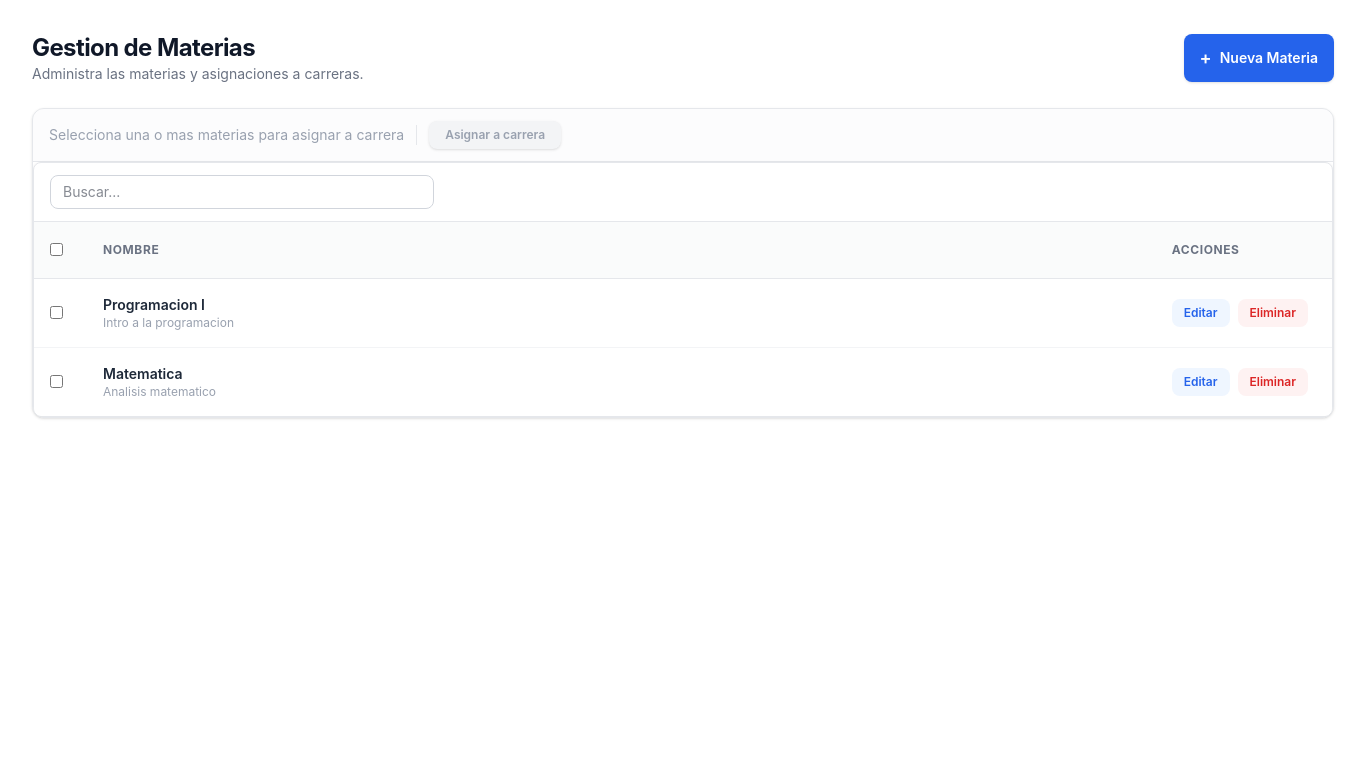
Test case: AdminMateriasPage › muestra mensaje de exito verde al asignar correctamente
This screenshot has width=1366, height=768.
Click the checkbox next to "Programacion I".
click(56, 312)  # box x1=50 y1=306 x2=63 y2=319
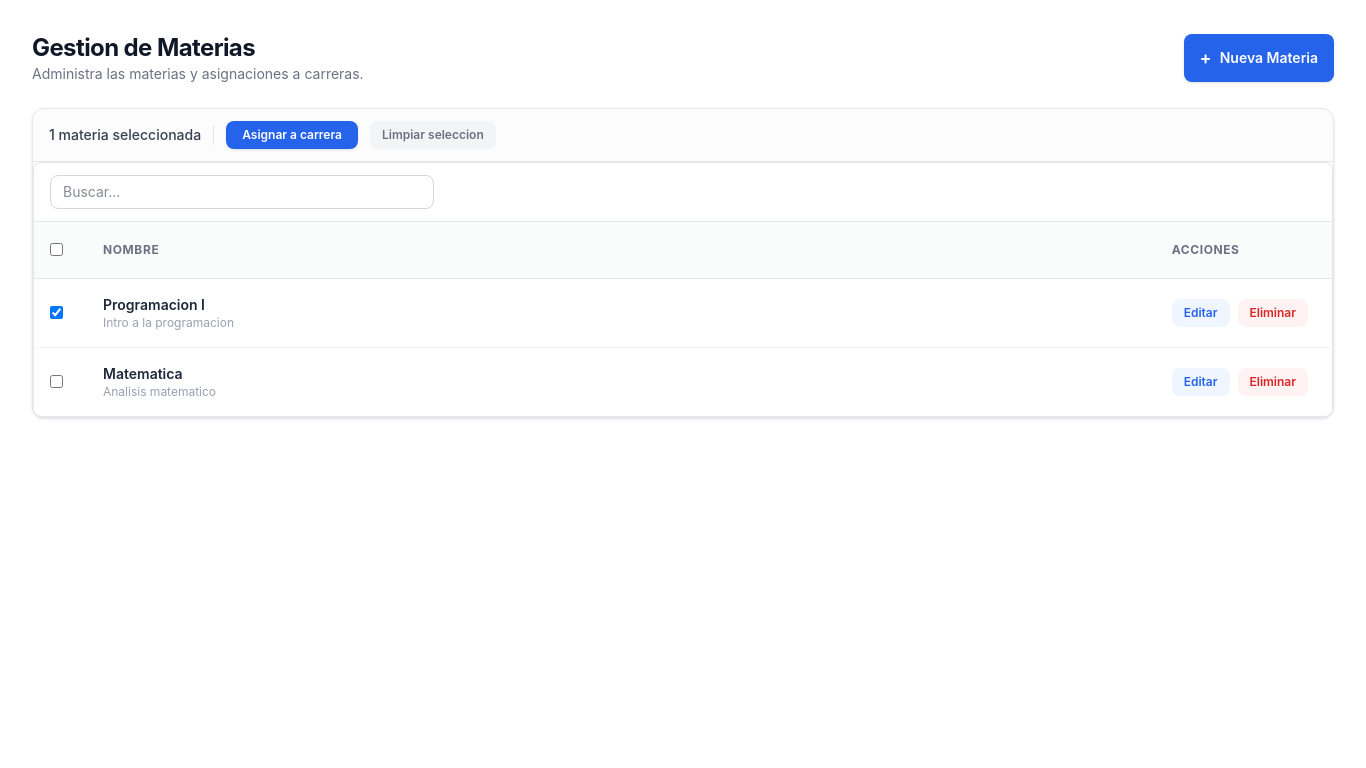
Click the button "Asignar a carrera".
click(292, 135)  # box x1=226 y1=121 x2=358 y2=149
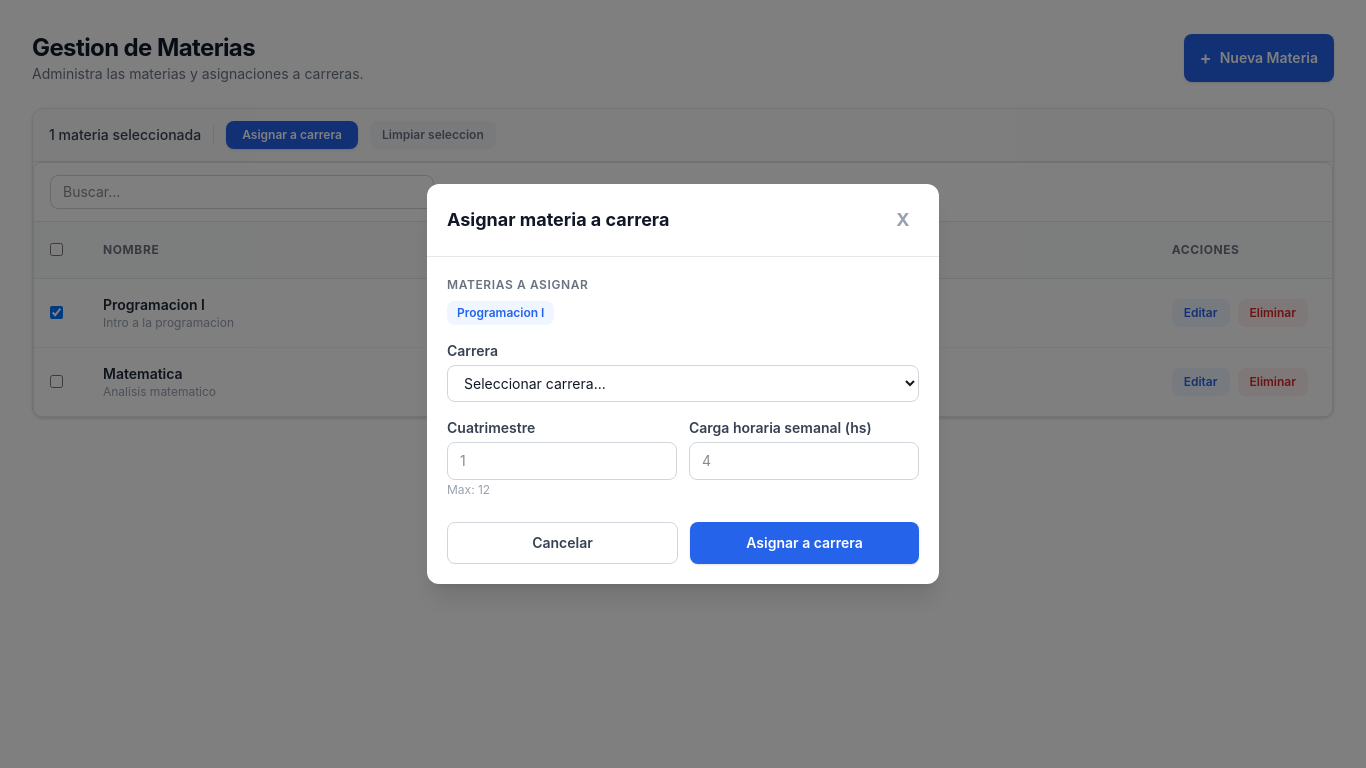
Select "Desarrollo de Software" in the dropdown at (683, 384), box x1=447 y1=365 x2=919 y2=402
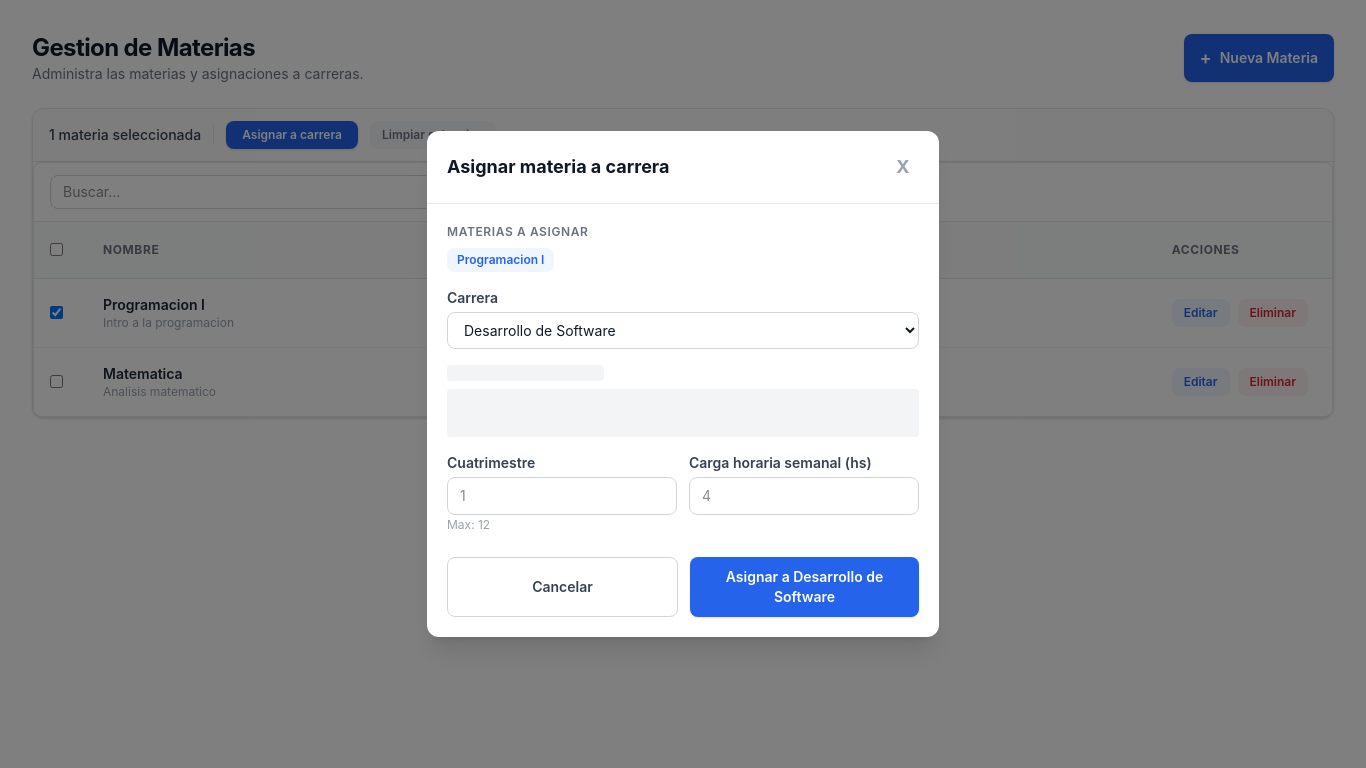
Type "2" into the number field with placeholder "1".
click(562, 496); type("2")  # box x1=447 y1=477 x2=677 y2=515
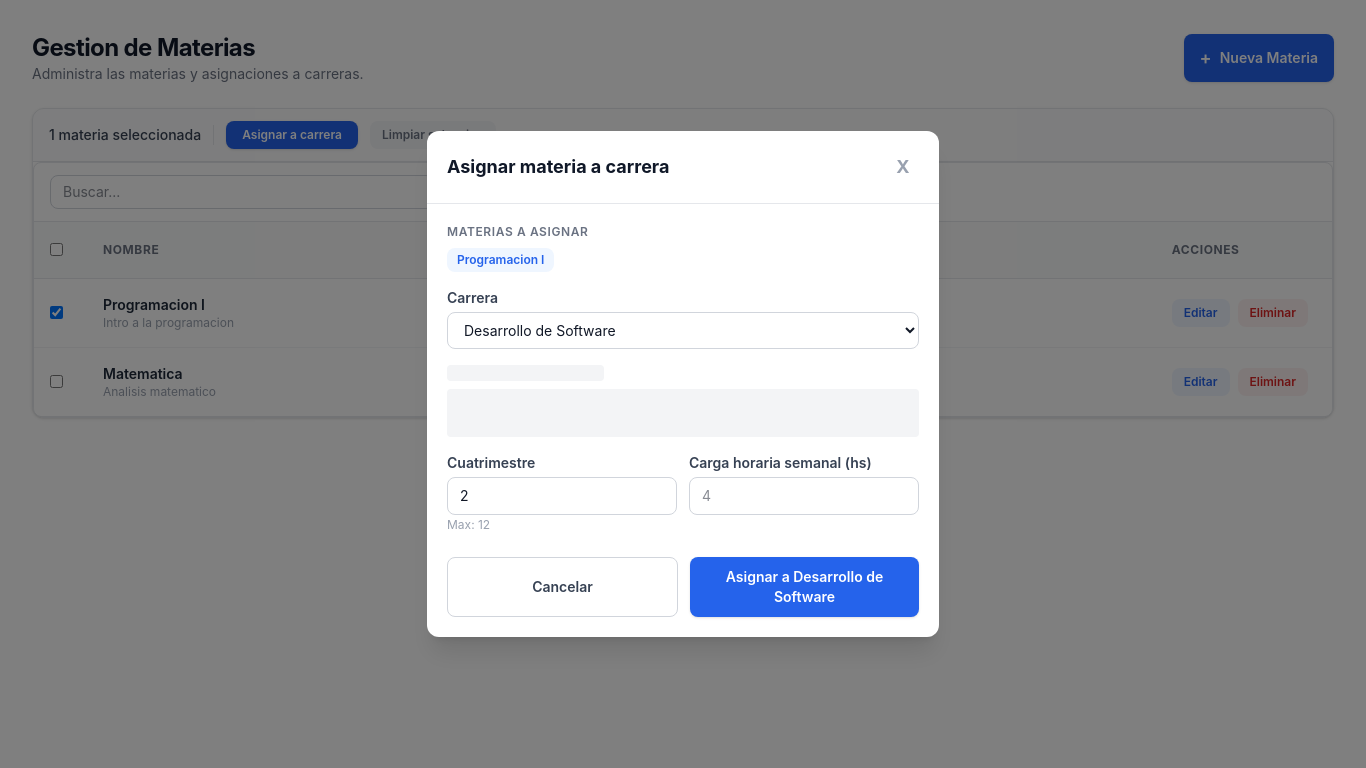
Type "6" into the number field with placeholder "4".
click(804, 496); type("6")  # box x1=689 y1=477 x2=919 y2=515
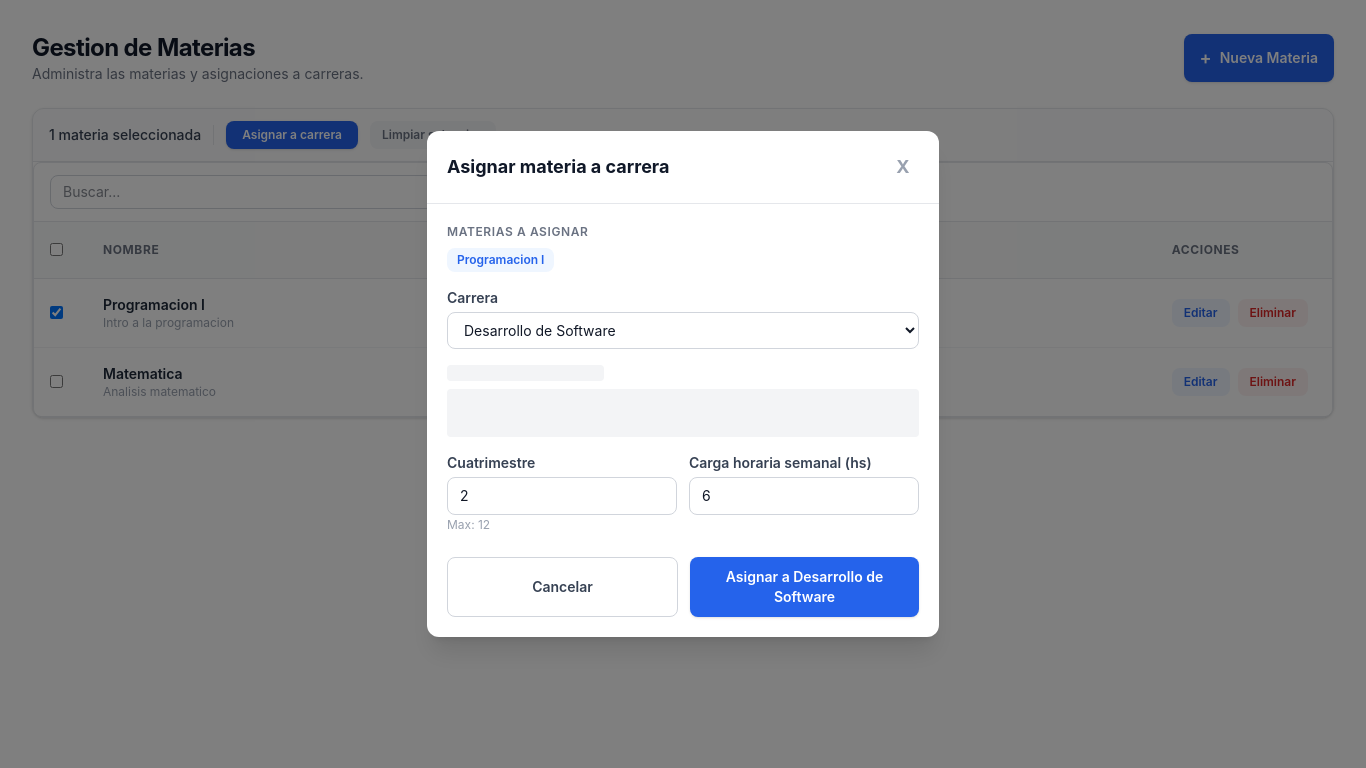
Click the button "Asignar a Desarrollo de Software".
click(804, 587)  # box x1=690 y1=557 x2=919 y2=617
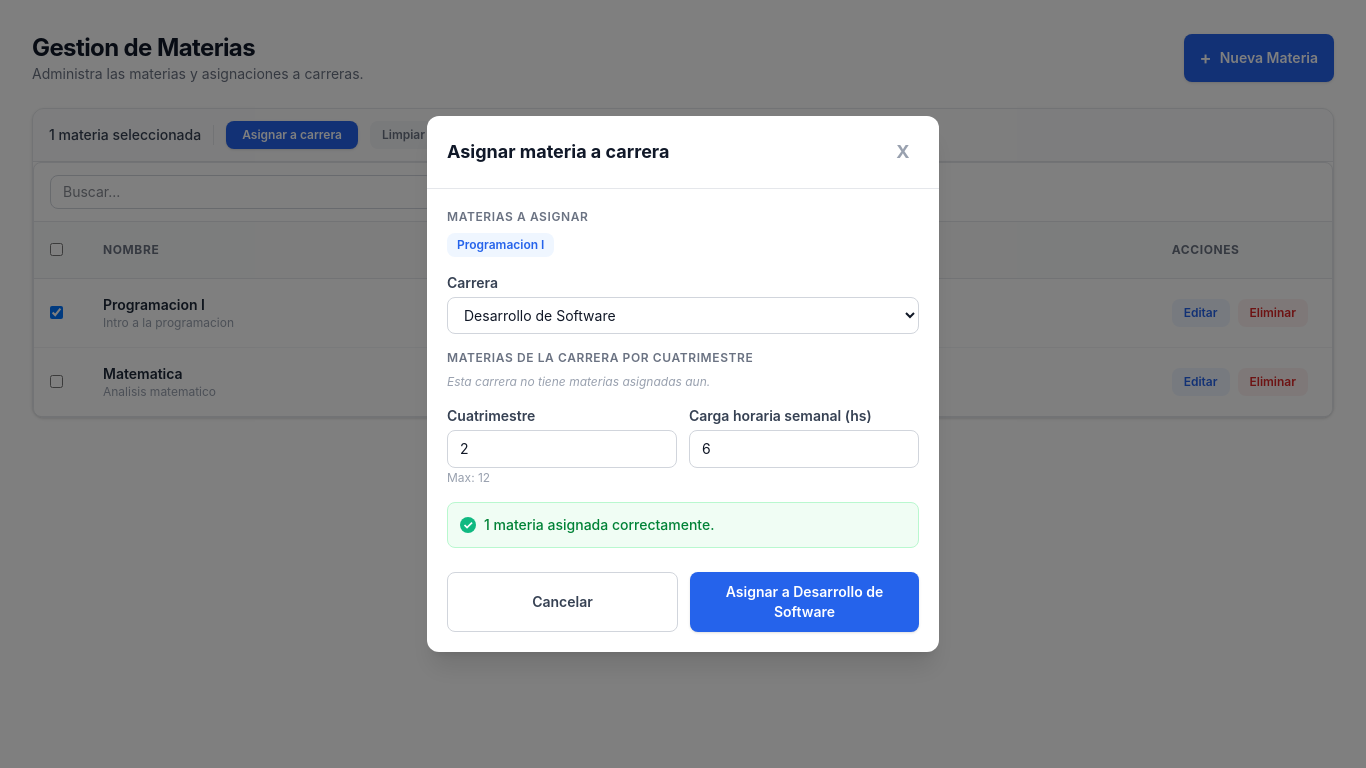
Expected: the text "1 materia asignada correctamente." is shown, x1=484 y1=516 x2=714 y2=533
